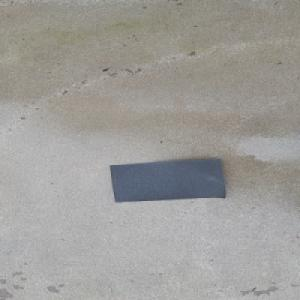PaintChip: (109, 158, 225, 202)
